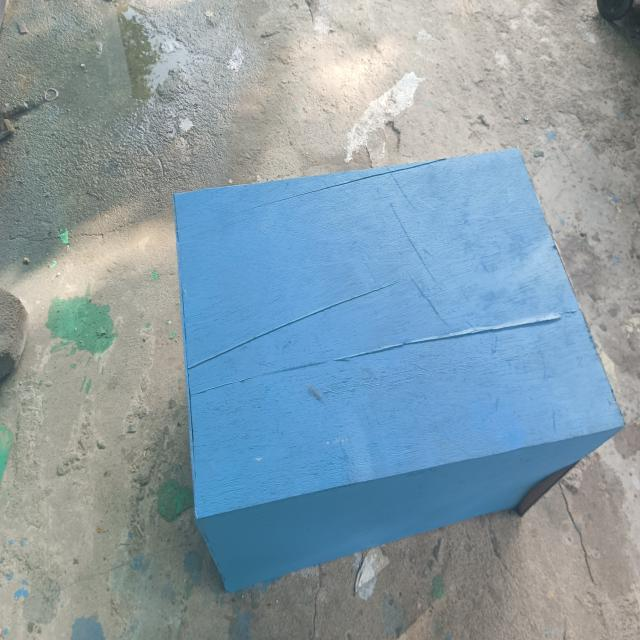blue_box: (164, 136, 610, 588)
